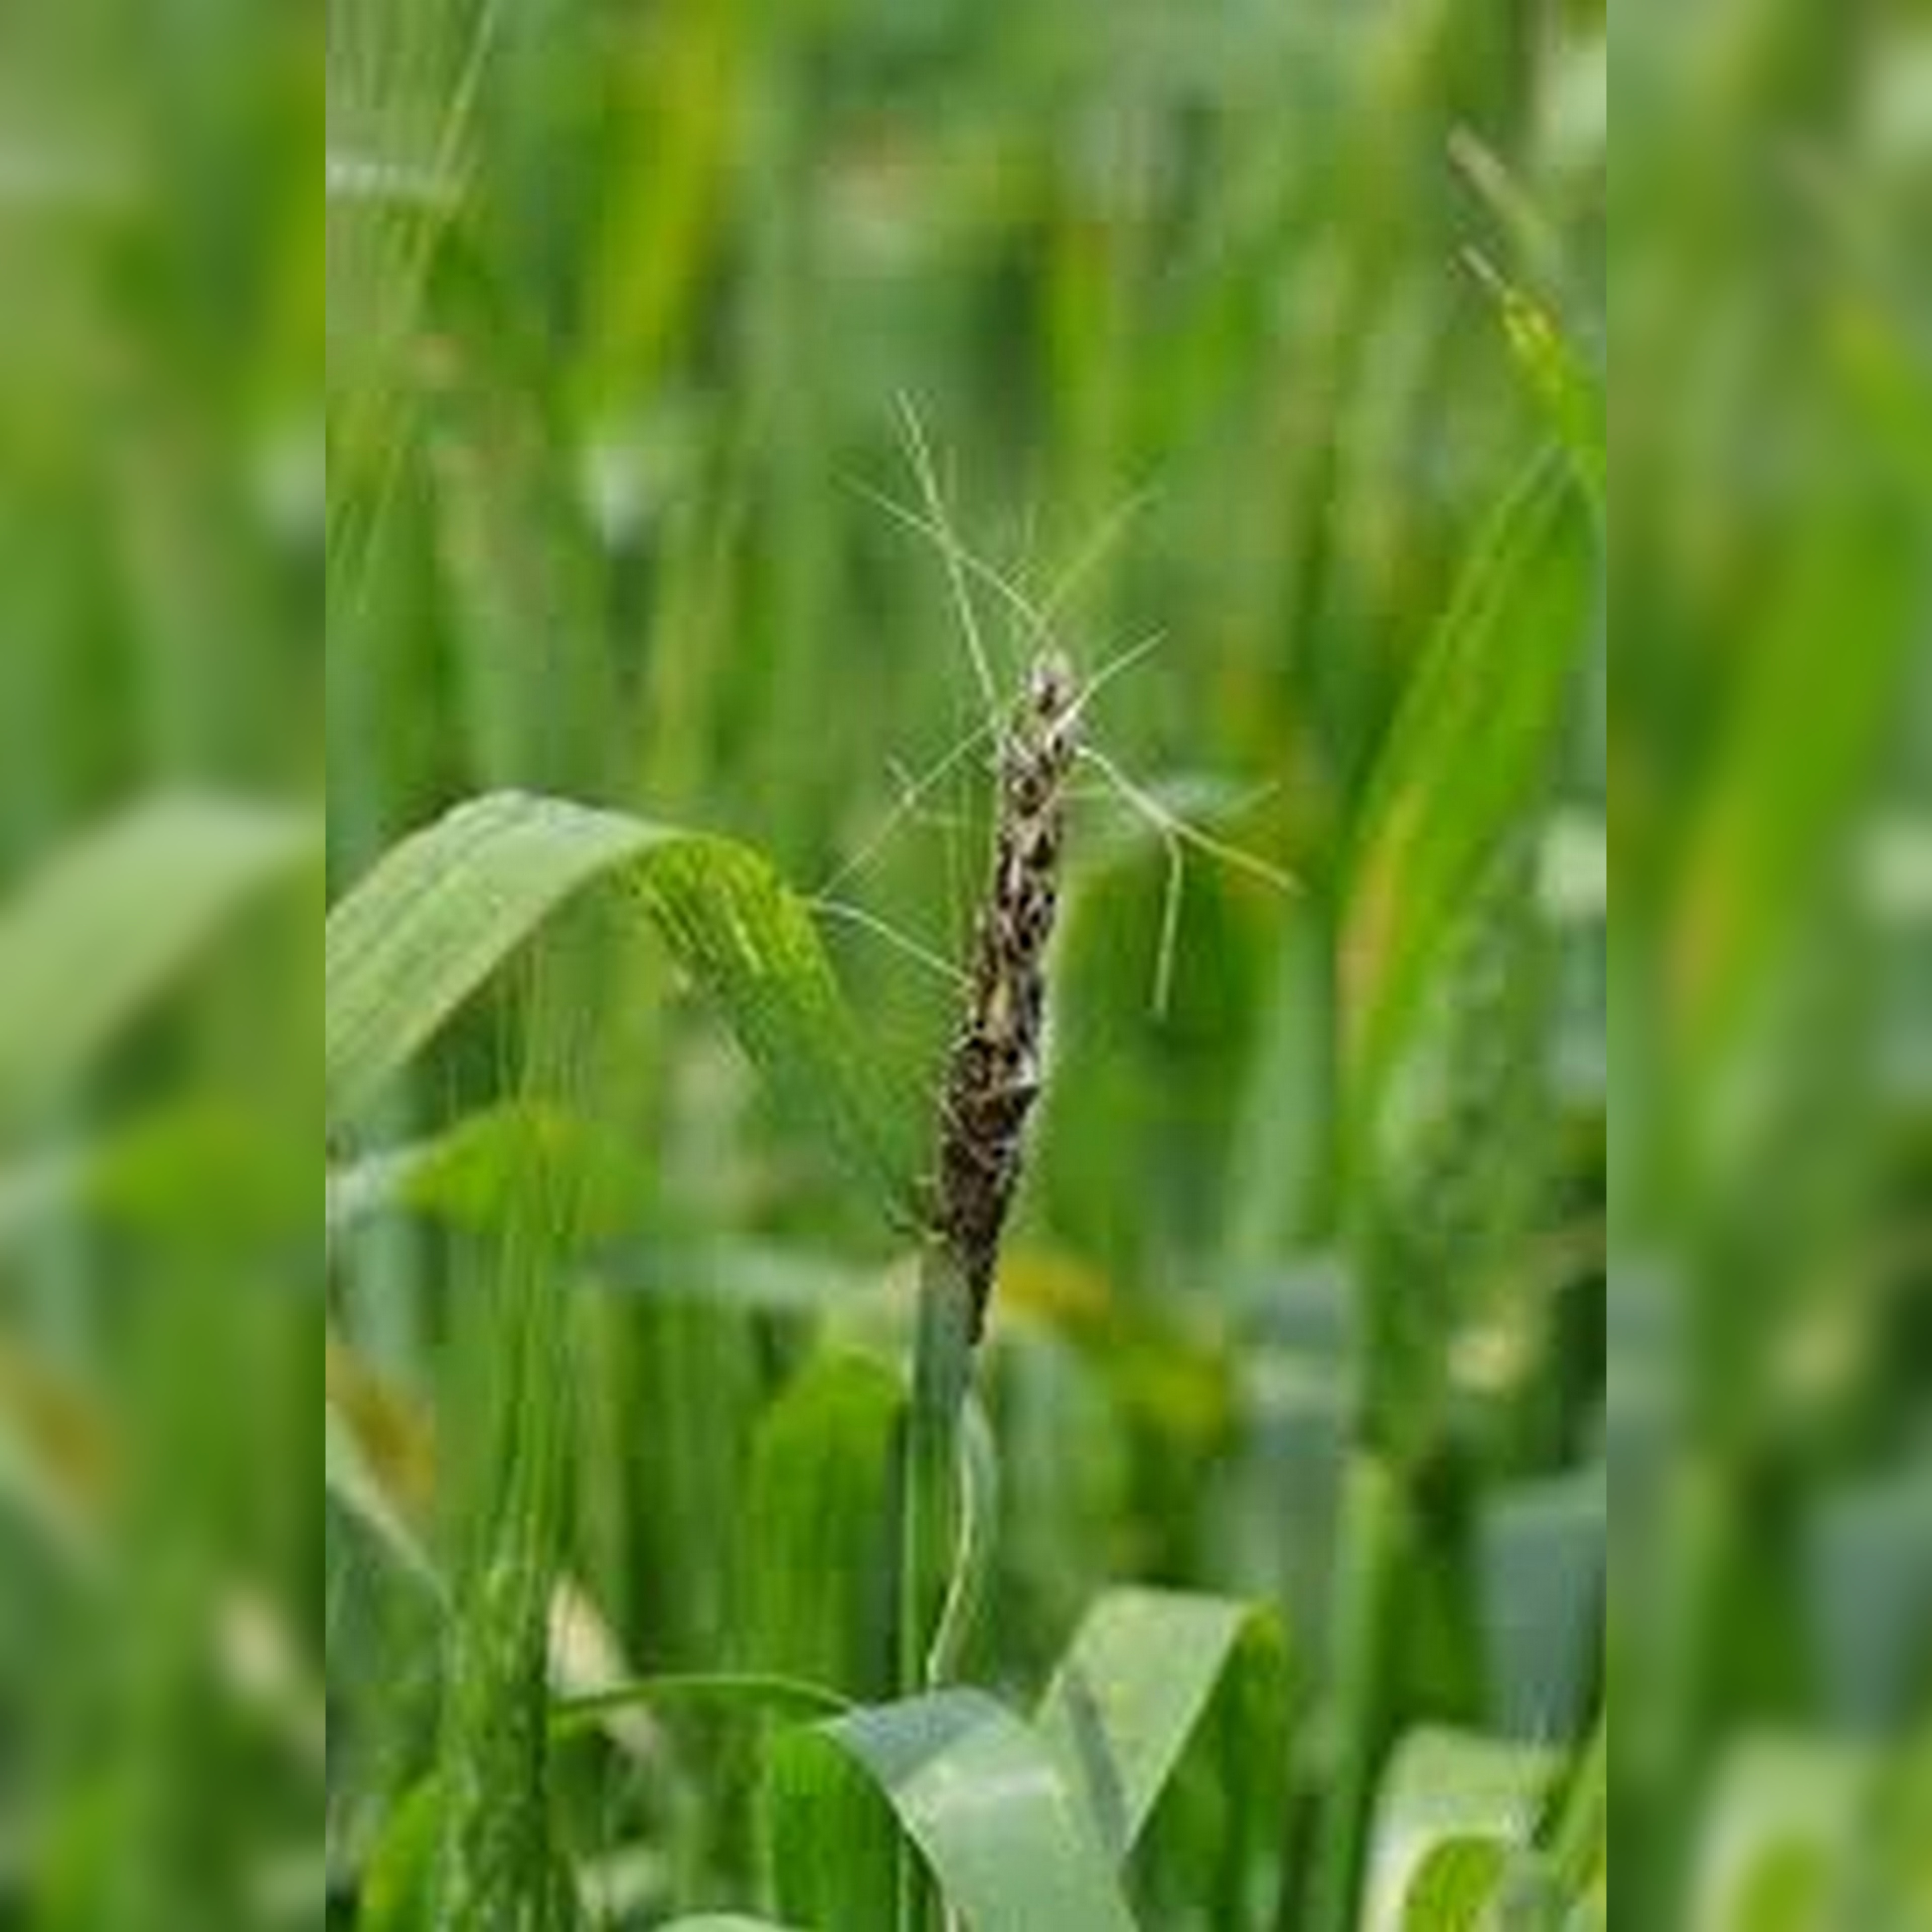Wheat Loose Smut: (872, 596, 1129, 1244)
